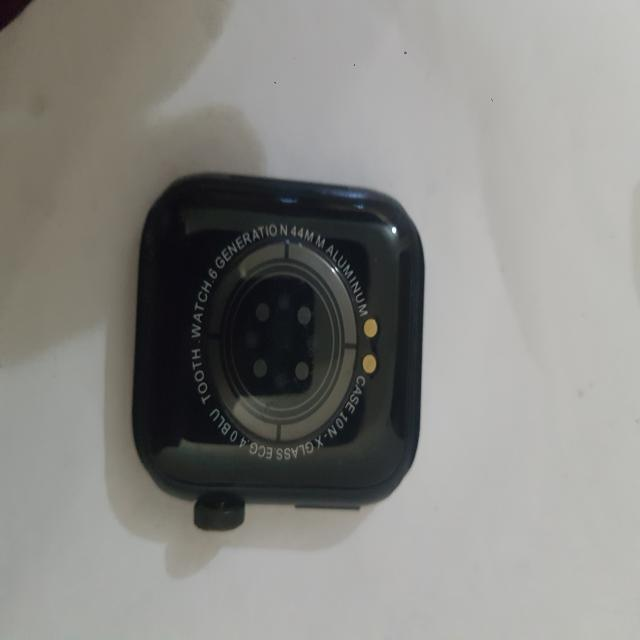electronic: (130, 168, 426, 528)
